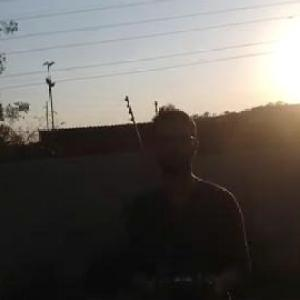follow: (108, 103, 259, 299)
